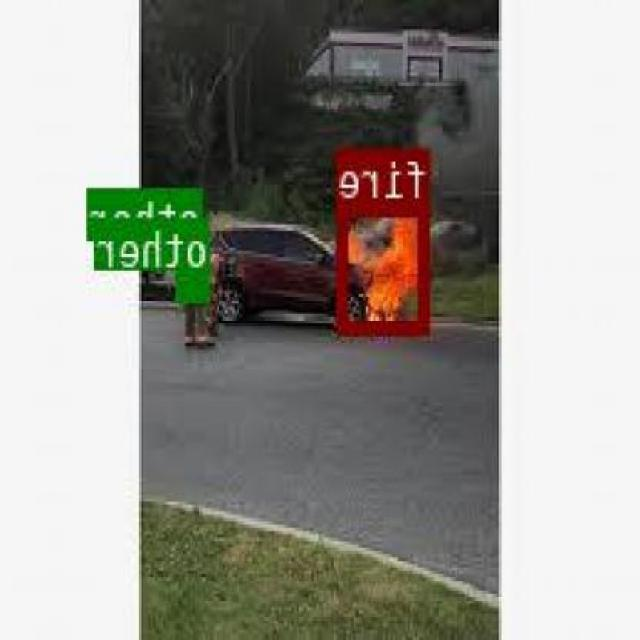fire: (340, 198, 432, 332)
other: (178, 270, 211, 298), (182, 240, 205, 260)
